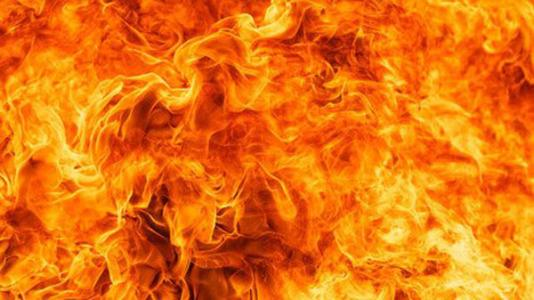fire: (27, 32, 505, 264)
